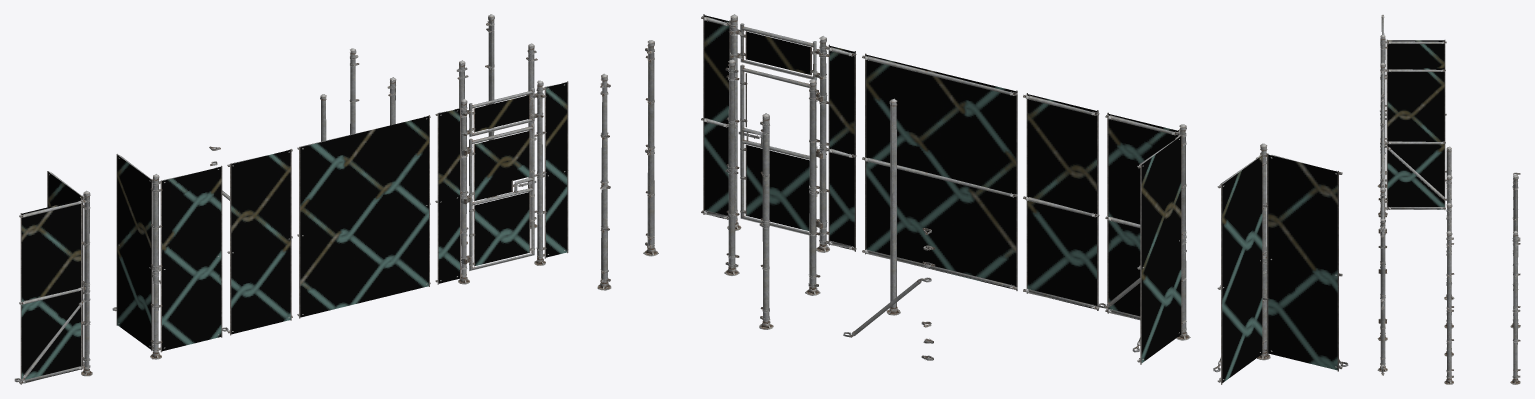
The model's file is PG_ChainlinkFence.fbx.
3 renders of one model, left to right at view 1: azimuth 30°, elevation 25°; view 2: azimuth 150°, elevation 25°; view 3: azimuth 270°, elevation 25°, orthographic. The views are drawn at different scales.
Parts seen in each view (by area): view 1: modular_chainlink_fence_double, modular_chainlink_fence_corner_outer, modular_chainlink_fence_door_frame, modular_chainlink_fence_corner_inner, modular_chainlink_fence, modular_chainlink_fence_door_gate, modular_chainlink_fence_start_01_corner_02, modular_chainlink_fence_start_01_corner_01, modular_chainlink_fence_end_02; view 2: modular_chainlink_fence_double, modular_chainlink_fence_corner_inner, modular_chainlink_fence_corner_outer, modular_chainlink_fence_door_frame, modular_chainlink_fence, modular_chainlink_fence_door_gate, modular_chainlink_post_middle, modular_chainlink_fence_end_02, modular_chainlink_fence_end_01, modular_chainlink_fence_start_01_corner_01, modular_chainlink_fence_start_01_corner_02, modular_chainlink_fence_post; view 3: modular_chainlink_fence_corner_outer, modular_chainlink_fence_corner_inner, modular_chainlink_fence_door_frame, modular_chainlink_fence_start_01_corner_02, modular_chainlink_fence_start_01_corner_01, modular_chainlink_fence_end_02, modular_chainlink_fence_post, modular_chainlink_fence_end_01, modular_chainlink_post_middle, modular_chainlink_fence_double.
Boxes of the visible parts, box(x1,y1,x2,y2) form: modular_chainlink_fence_double: box(297, 115, 430, 318); modular_chainlink_fence_corner_outer: box(112, 154, 228, 359); modular_chainlink_fence_door_frame: box(435, 80, 568, 284); modular_chainlink_fence_corner_inner: box(14, 171, 92, 384); modular_chainlink_fence: box(227, 149, 292, 335); modular_chainlink_fence_door_gate: box(469, 123, 535, 270); modular_chainlink_fence_start_01_corner_02: box(485, 14, 496, 198); modular_chainlink_fence_start_01_corner_01: box(526, 43, 537, 228); modular_chainlink_fence_end_02: box(349, 48, 359, 134); modular_chainlink_fence_double: box(862, 53, 1017, 290); modular_chainlink_fence_corner_inner: box(1213, 143, 1348, 384); modular_chainlink_fence_corner_outer: box(1098, 112, 1190, 364); modular_chainlink_fence_door_frame: box(701, 14, 856, 252); modular_chainlink_fence: box(1023, 93, 1099, 310); modular_chainlink_fence_door_gate: box(740, 64, 817, 236); modular_chainlink_post_middle: box(724, 59, 739, 275); modular_chainlink_fence_end_02: box(759, 113, 773, 329); modular_chainlink_fence_end_01: box(805, 79, 820, 295); modular_chainlink_fence_start_01_corner_01: box(643, 40, 658, 256); modular_chainlink_fence_start_01_corner_02: box(597, 73, 611, 290); modular_chainlink_fence_post: box(886, 98, 900, 315); modular_chainlink_fence_corner_outer: box(1378, 62, 1451, 215); modular_chainlink_fence_corner_inner: box(1377, 14, 1451, 188); modular_chainlink_fence_door_frame: box(1377, 183, 1387, 375); modular_chainlink_fence_start_01_corner_02: box(1510, 230, 1520, 384); modular_chainlink_fence_start_01_corner_01: box(1444, 231, 1454, 384); modular_chainlink_fence_end_02: box(1510, 174, 1520, 328); modular_chainlink_fence_post: box(1444, 146, 1454, 300); modular_chainlink_fence_end_01: box(1444, 175, 1453, 328); modular_chainlink_post_middle: box(1444, 203, 1453, 356); modular_chainlink_fence_double: box(1381, 127, 1384, 181).
Size of the model in its own units: 8.12 by 2.52 by 2.16.
2 materials, 2 textured.
